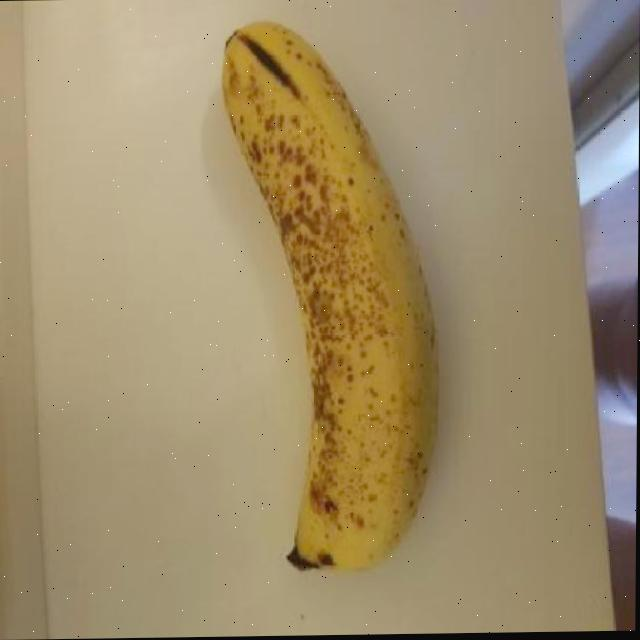banana: (206, 9, 447, 581)
